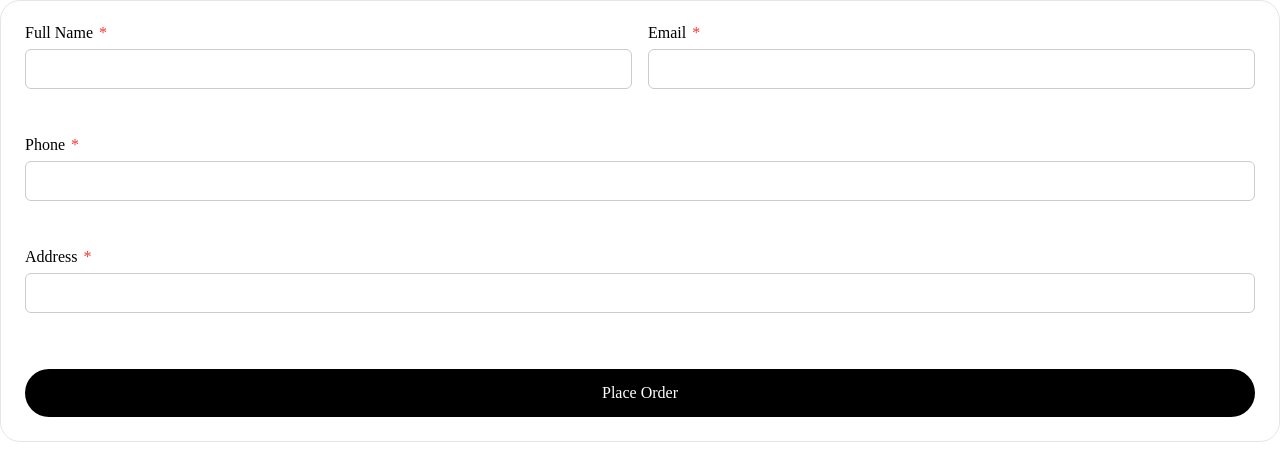
Scenario: CheckoutForm › validation › shows required field errors when submitted empty
The image size is (1280, 459).
Click the button "Place Order" at (640, 393), box [25,369,1255,417]
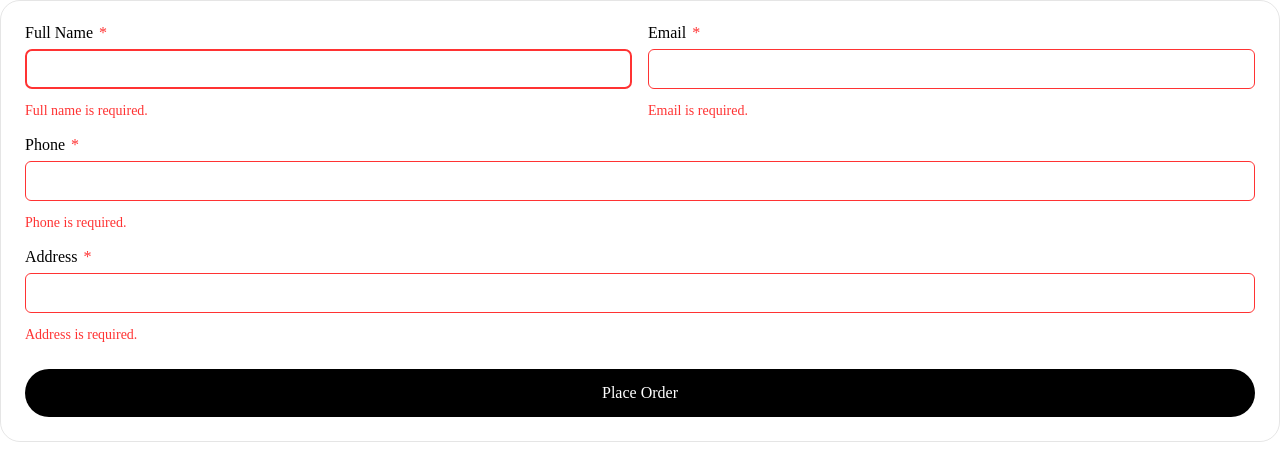
Expected: the text "Full name is required." is shown, [25,103,148,118]
Expected: the text "Email is required." is shown, [648,103,748,118]
Expected: the text "Phone is required." is shown, [25,215,126,230]
